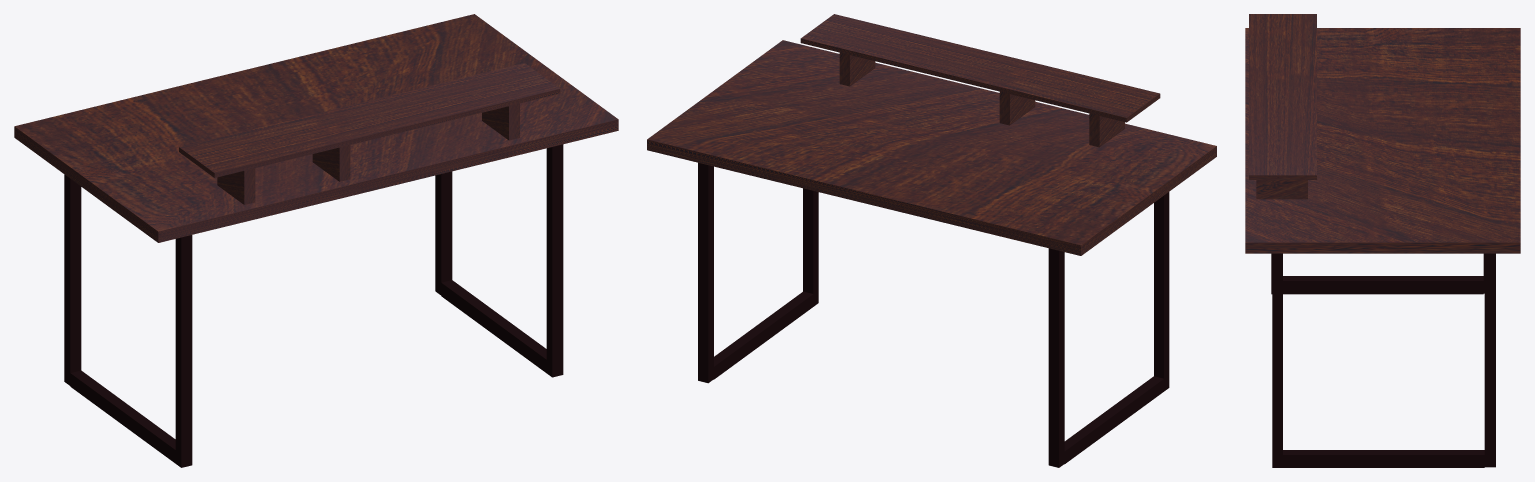
The model's file is finaltable.gltf.
3 views of the same model, side by side, from view 1: azimuth 30°, elevation 25°; view 2: azimuth 150°, elevation 25°; view 3: azimuth 270°, elevation 25° (orthographic). The views are drawn at different scales.
Parts seen in each view (by area): view 1: Cube, Cube.004, Cube.002, Cube.001, Cube.003, Cube.006, Cube.005; view 2: Cube, Cube.004, Cube.002, Cube.001, Cube.005, Cube.006, Cube.003; view 3: Cube, Cube.004, Cube.001, Cube.002, Cube.005.
Part boxes in pixels (<box>): Cube: <box>14,14,618,242</box>; Cube.004: <box>179,63,560,177</box>; Cube.002: <box>64,174,192,467</box>; Cube.001: <box>435,144,563,377</box>; Cube.003: <box>217,168,255,204</box>; Cube.006: <box>312,145,350,181</box>; Cube.005: <box>482,103,519,140</box>; Cube: <box>647,40,1216,255</box>; Cube.004: <box>800,14,1160,122</box>; Cube.002: <box>1048,192,1169,467</box>; Cube.001: <box>698,162,818,383</box>; Cube.005: <box>839,52,875,86</box>; Cube.006: <box>999,91,1035,125</box>; Cube.003: <box>1089,113,1124,147</box>; Cube: <box>1245,28,1520,253</box>; Cube.004: <box>1249,14,1316,179</box>; Cube.001: <box>1272,253,1495,467</box>; Cube.002: <box>1271,253,1484,294</box>; Cube.005: <box>1256,180,1307,199</box>.
Size of the model in its own units: 1.5 by 0.9301 by 0.8128.
3 materials, 2 textured.
